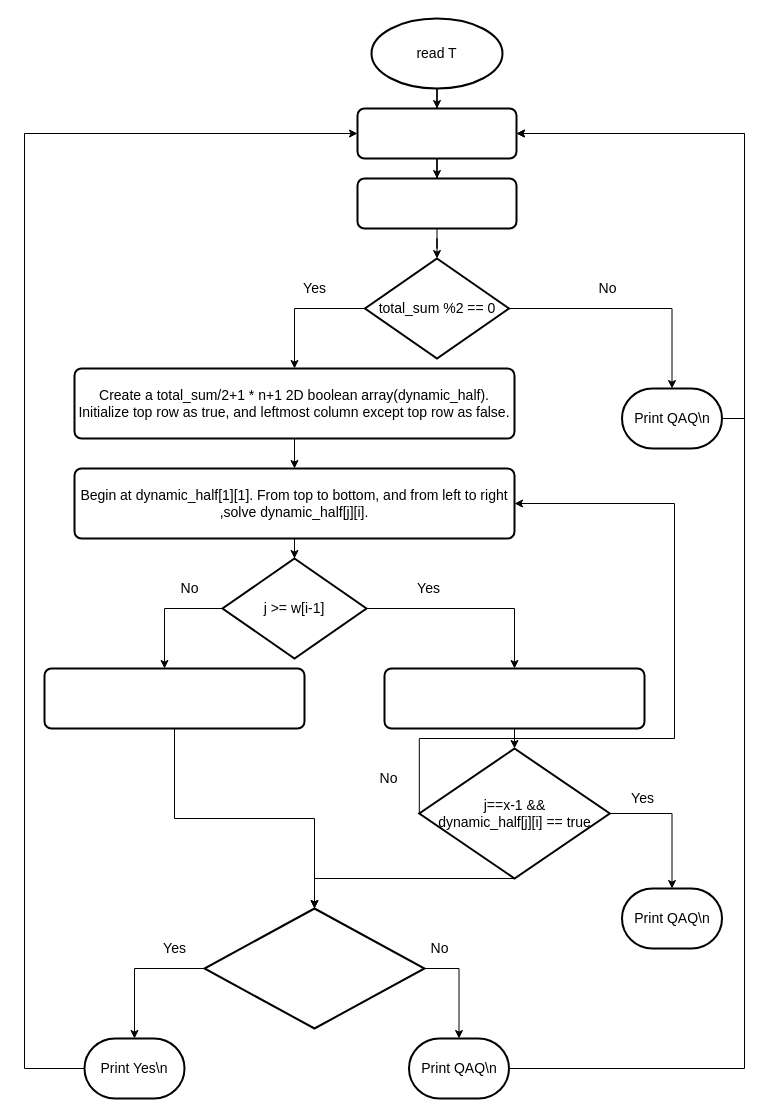
This 770x1116 diagram has some shape labels left out. Here are the shapes that lost their labels. From the top down, the centre of each, then its label:
the point at 436,133: read n
the point at 436,203: Read each of w, and sum up all w.
the point at 174,698: dynamic_half[j][i] = dynamic_half[j][i-1];
the point at 514,698: dynamic_half[j][i] = dynamic_half[j][i-1] || dynamic_half[j-w[i-1]][i-1]
the point at 314,968: dynamic_half [total_sum/2][n] == true
